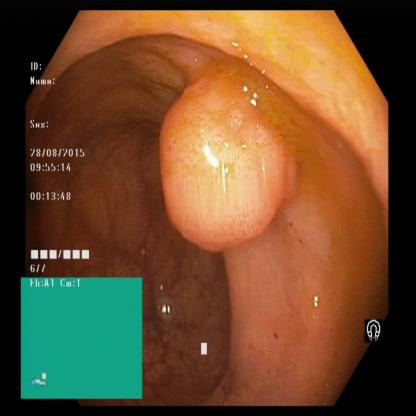Labels: (26, 50, 107, 274), (20, 275, 146, 398)
Polyps: (152, 72, 308, 250)
